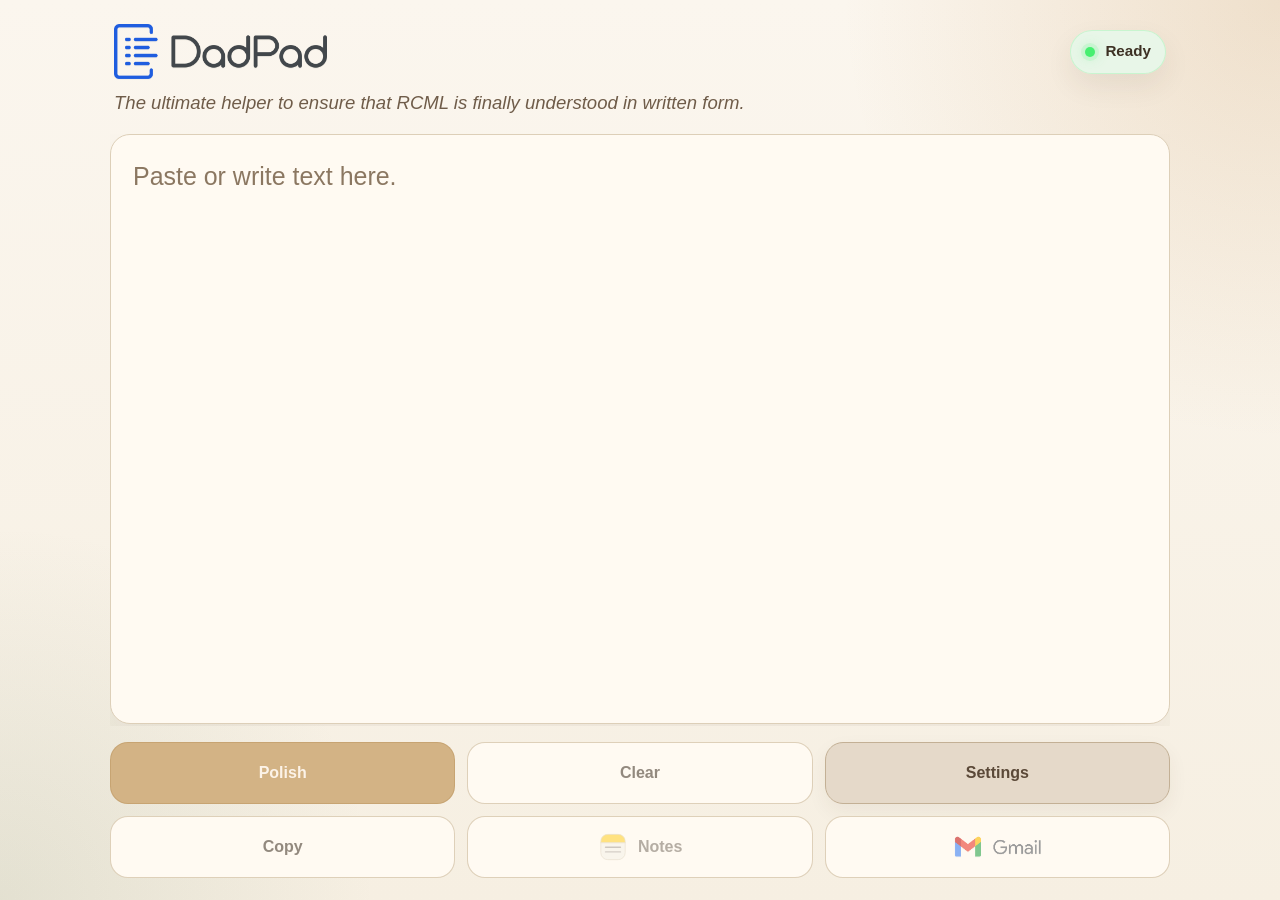
DadPad app › opens the clear sheet without changing the main status and resets on confirm
Type "clear me" into the text box named "Your text" at (640, 429), box left=110, top=134, right=1170, bottom=724
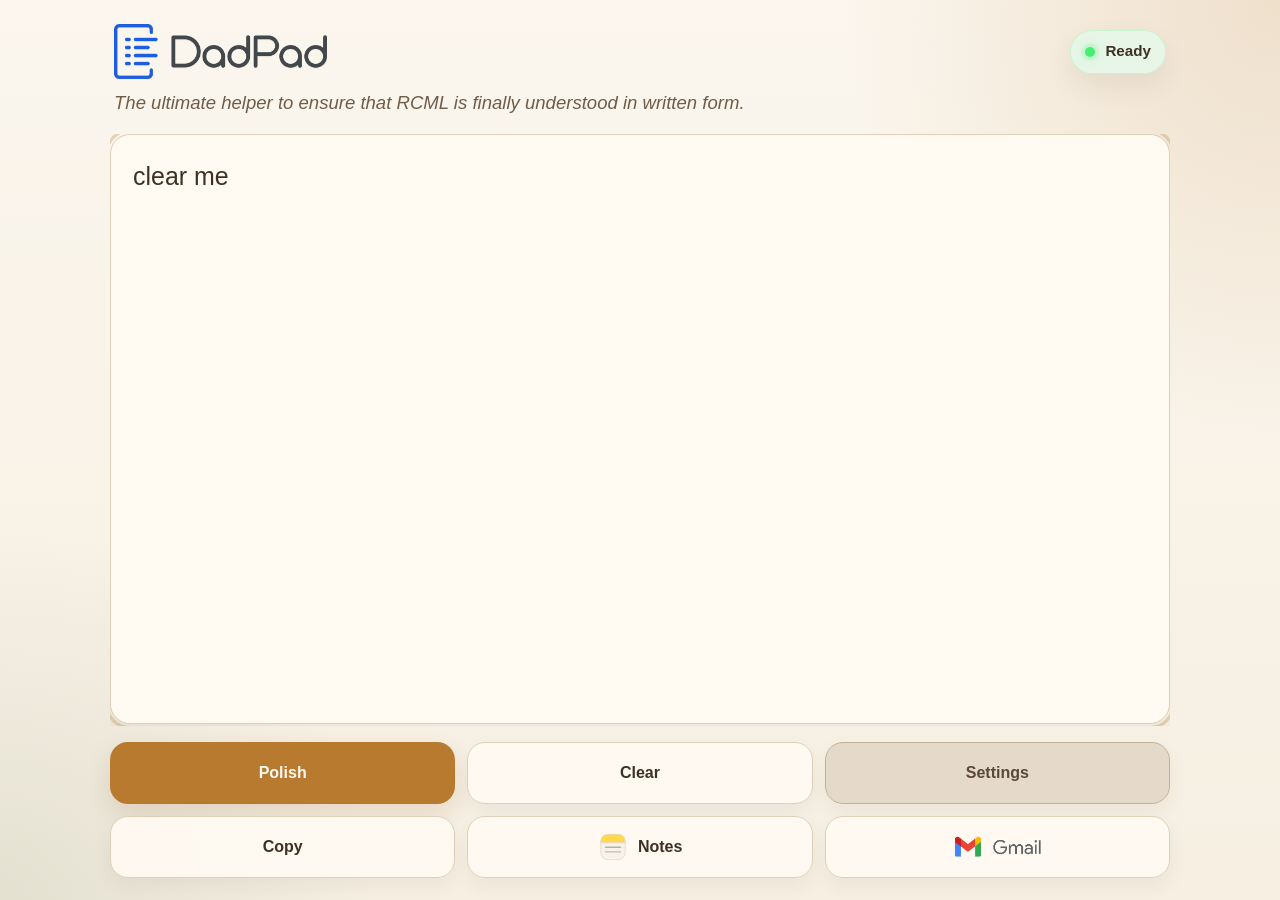
Expected: the element with class "status-chip" reads "Ready", left=1105, top=42, right=1151, bottom=59
Click the button "Clear" at (640, 773), box left=467, top=742, right=813, bottom=804
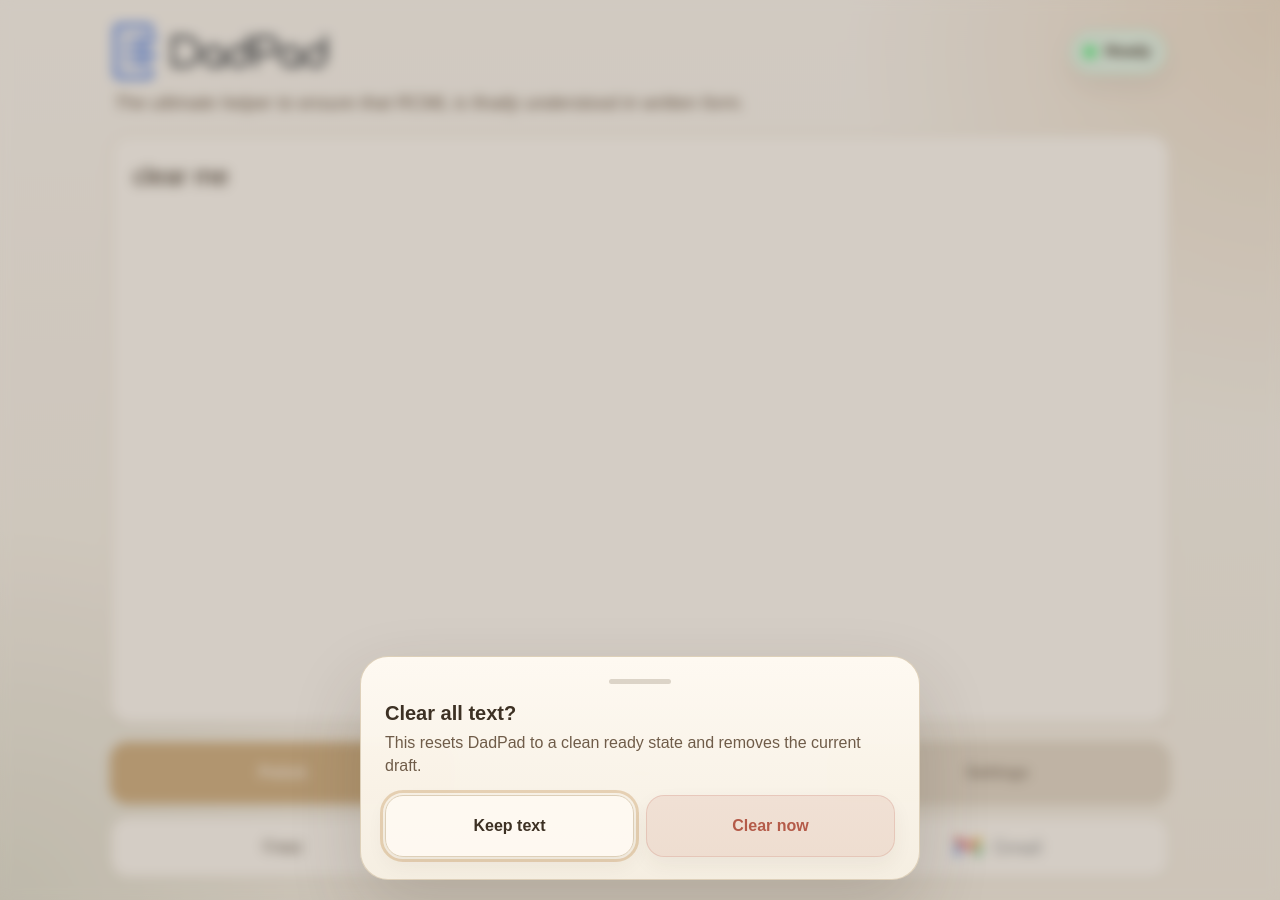
Now the dialog "Clear all text?" is shown, box left=360, top=656, right=920, bottom=880
Now the button "Keep text" is shown, box left=385, top=795, right=634, bottom=857
Now the button "Clear now" is shown
Click the button "Clear now" at (770, 826), box left=646, top=795, right=895, bottom=857
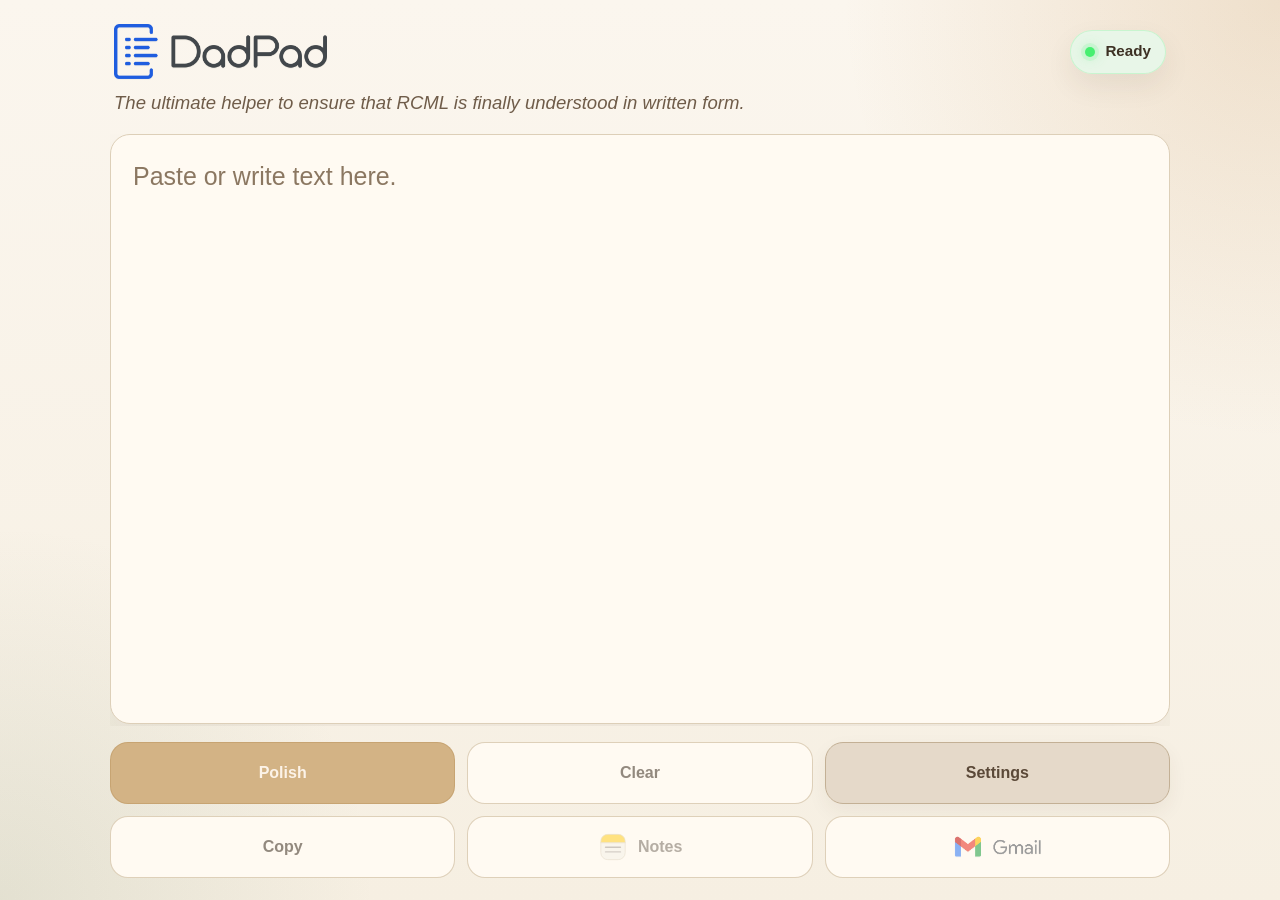
Expected: the element with class "status-chip" reads "Ready", left=1105, top=42, right=1151, bottom=59
Now the text box named "Your text" is empty, box left=110, top=134, right=1170, bottom=724
Now the heading "Clear all text?" is gone
